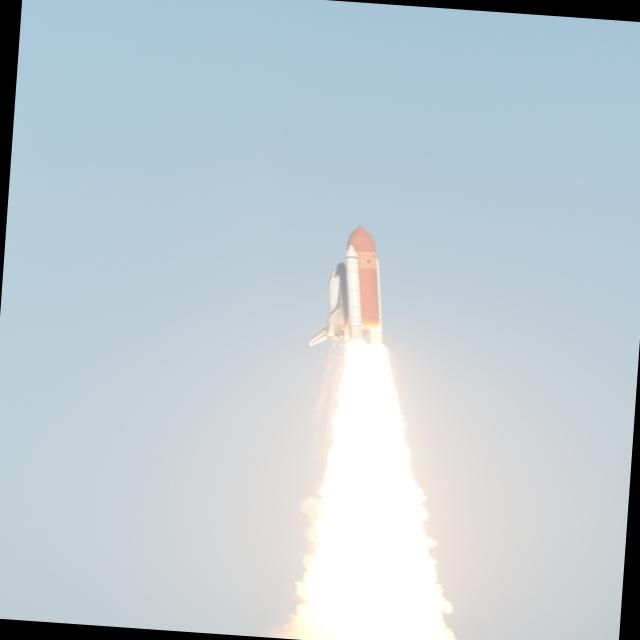rocket: (324, 227, 418, 482)
